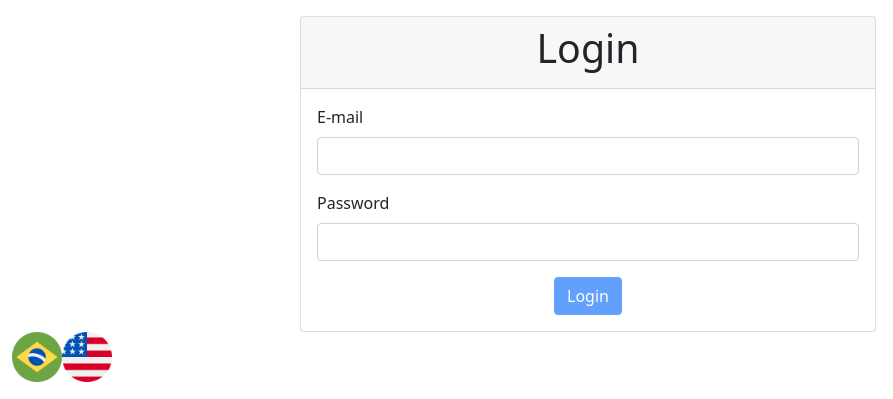
Scenario: LoginPage › Internationalization › display all text in Portuguese after changing language
Click the picture titled "Portuguese".
click(37, 357)  # box [12,332,62,382]
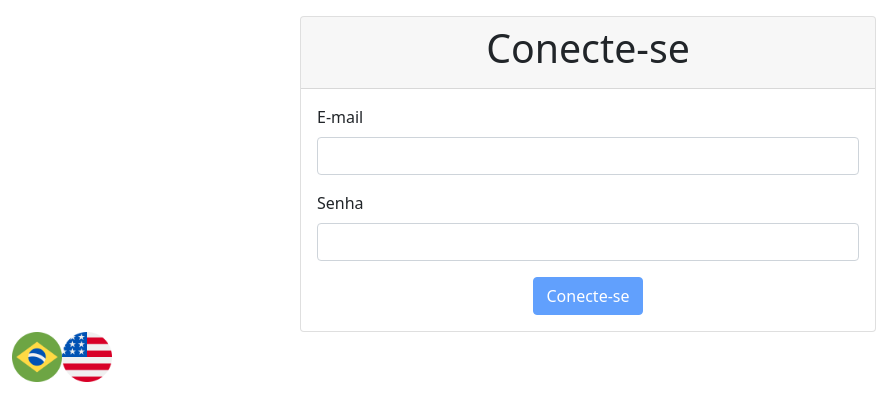
Expected: the field labelled "E-mail" is shown, [317,137,859,175]
Result: the heading "Conecte-se" is shown at [486,21,690,75]
Result: the button "Conecte-se" is shown at [534,277,642,315]
